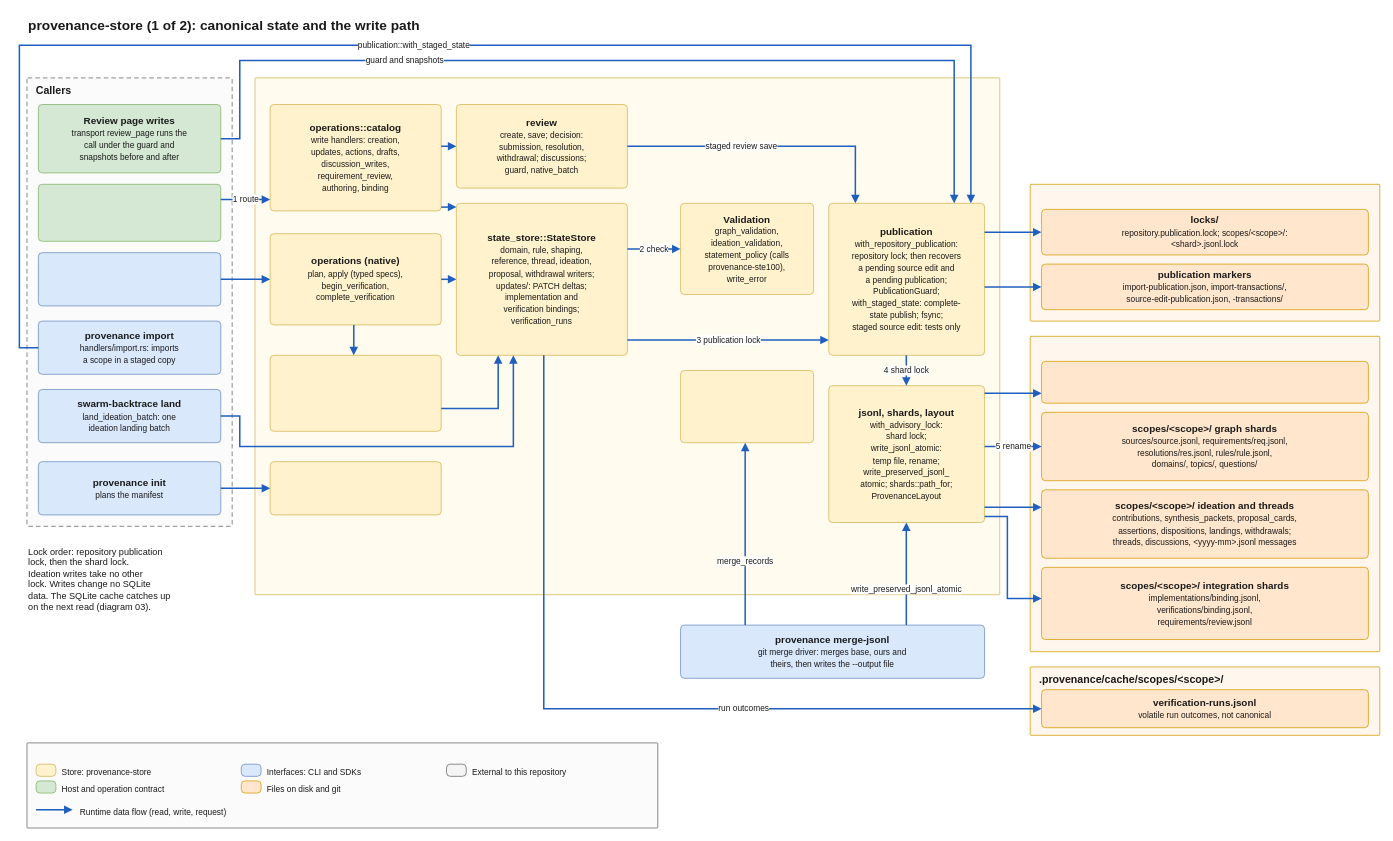
Image size: 1393x841. Some labels were removed from this diagram. The shapes that lost their labels are listed below. From the top down, each one's box as (x1, y1, x2, y2) in pixels, then its label:
(38, 184, 221, 241): provenance-transport catalog routes: HTTP, MCP, in-process CLI calls
(1029, 184, 1380, 321): .provenance/cache/ (git-ignored)
(38, 252, 221, 306): provenance-sdk plan, apply, verify() in the same process
(254, 77, 1000, 595): provenance-store write path
(269, 355, 441, 431): typed_specs apply / plan; reconcile, adoption, cascade, deletion
(1041, 361, 1368, 403): manifest.json scopes, path prefixes, disposition_actor_ids
(680, 370, 814, 443): merge merge_records: three-way merge; validate_merged_ records
(269, 461, 441, 515): repository_init plan_manifest for provenance init
(1029, 336, 1380, 652): .provenance/state/ (tracked in git)
(26, 742, 658, 828): Legend
